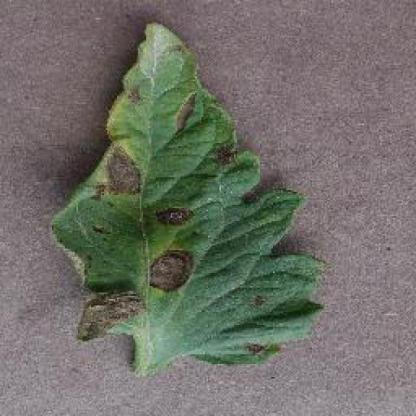Tomato_Blight: (50, 22, 325, 365)
